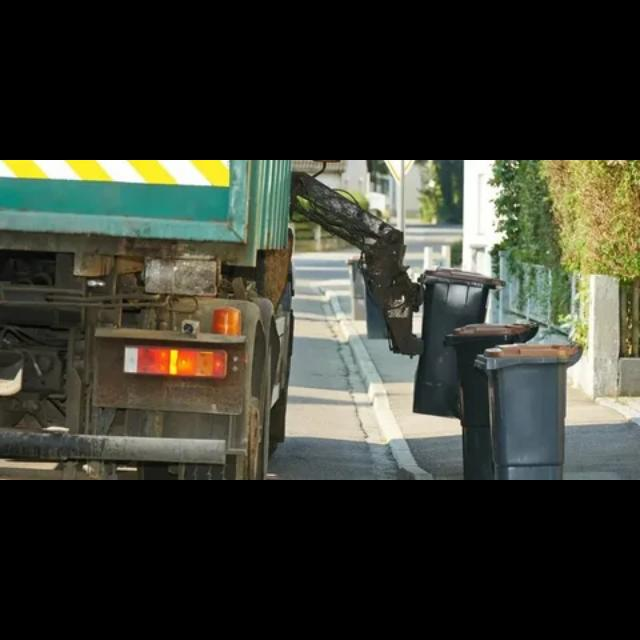Trash_Can_Closed: (472, 341, 584, 480), (443, 322, 540, 480), (412, 268, 507, 419)
